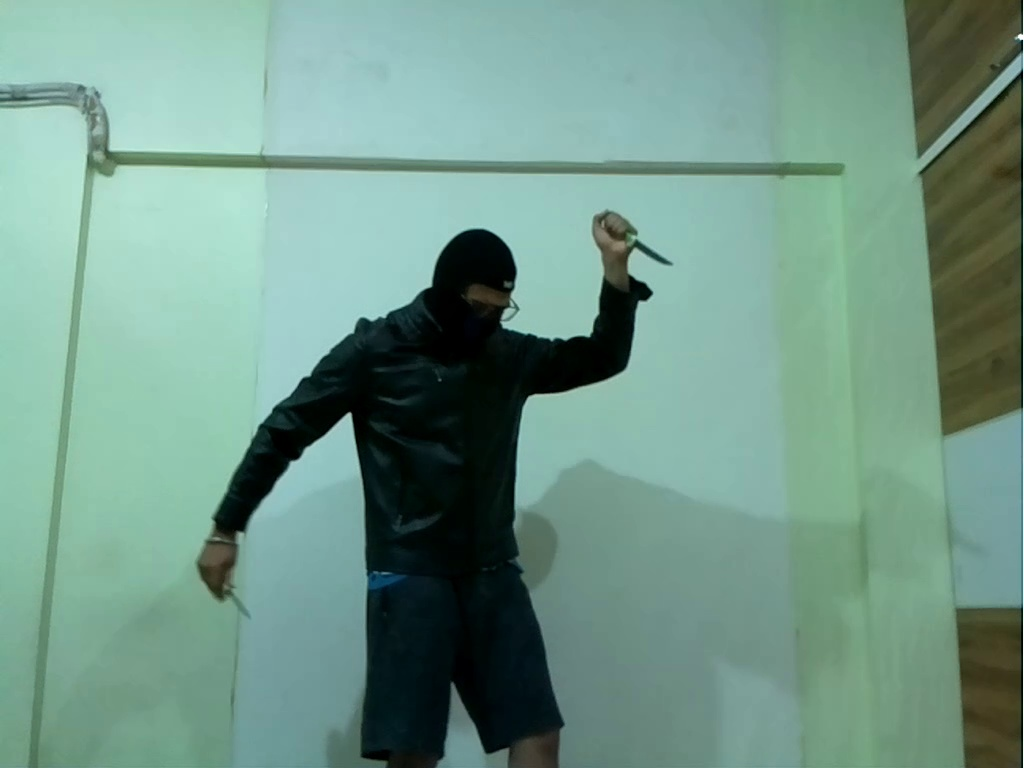knife: (613, 220, 688, 280)
